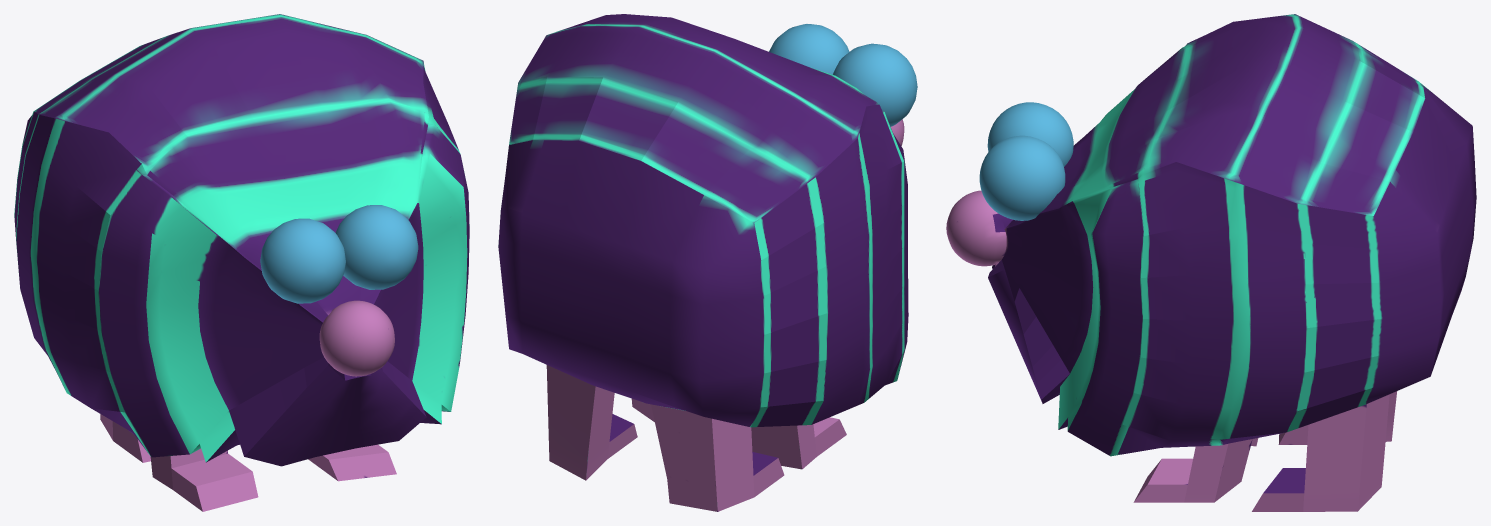
Rendered from petev1.fbx.
3 renders of one model, left to right at view 1: azimuth 30°, elevation 25°; view 2: azimuth 150°, elevation 25°; view 3: azimuth 270°, elevation 25°, orthographic.
Visible parts, largest first — view 1: pSphere5; view 2: pSphere5; view 3: pSphere5.
Part boxes in pixels (<box>): pSphere5: <box>14,14,469,511</box>; pSphere5: <box>498,14,917,511</box>; pSphere5: <box>946,14,1476,511</box>.
Size of the model in its own units: 153 by 164 by 188.
2 materials, 2 textured.
